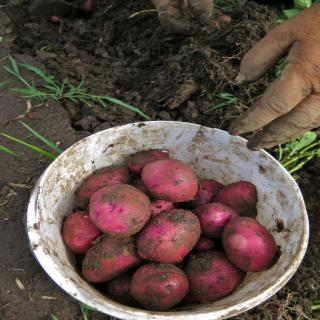Potato: (59, 146, 280, 312), (220, 219, 278, 272), (140, 158, 198, 205)
